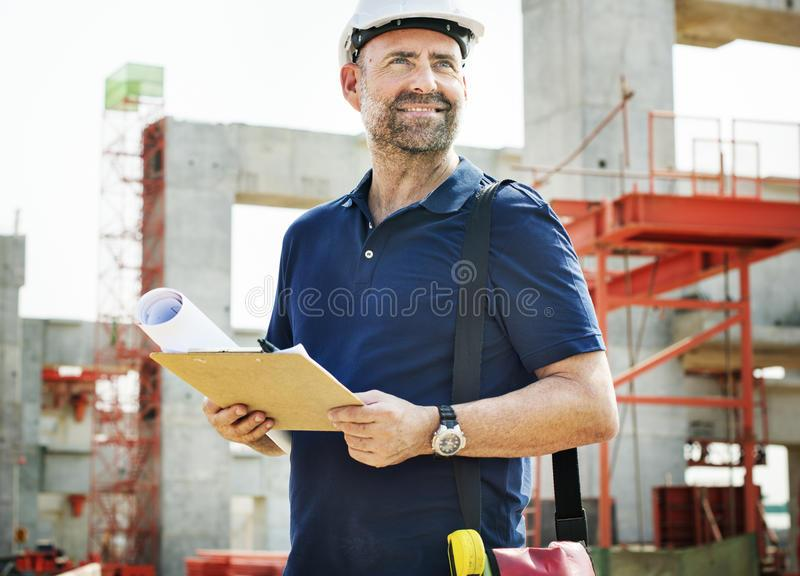helmet: (337, 1, 488, 88)
